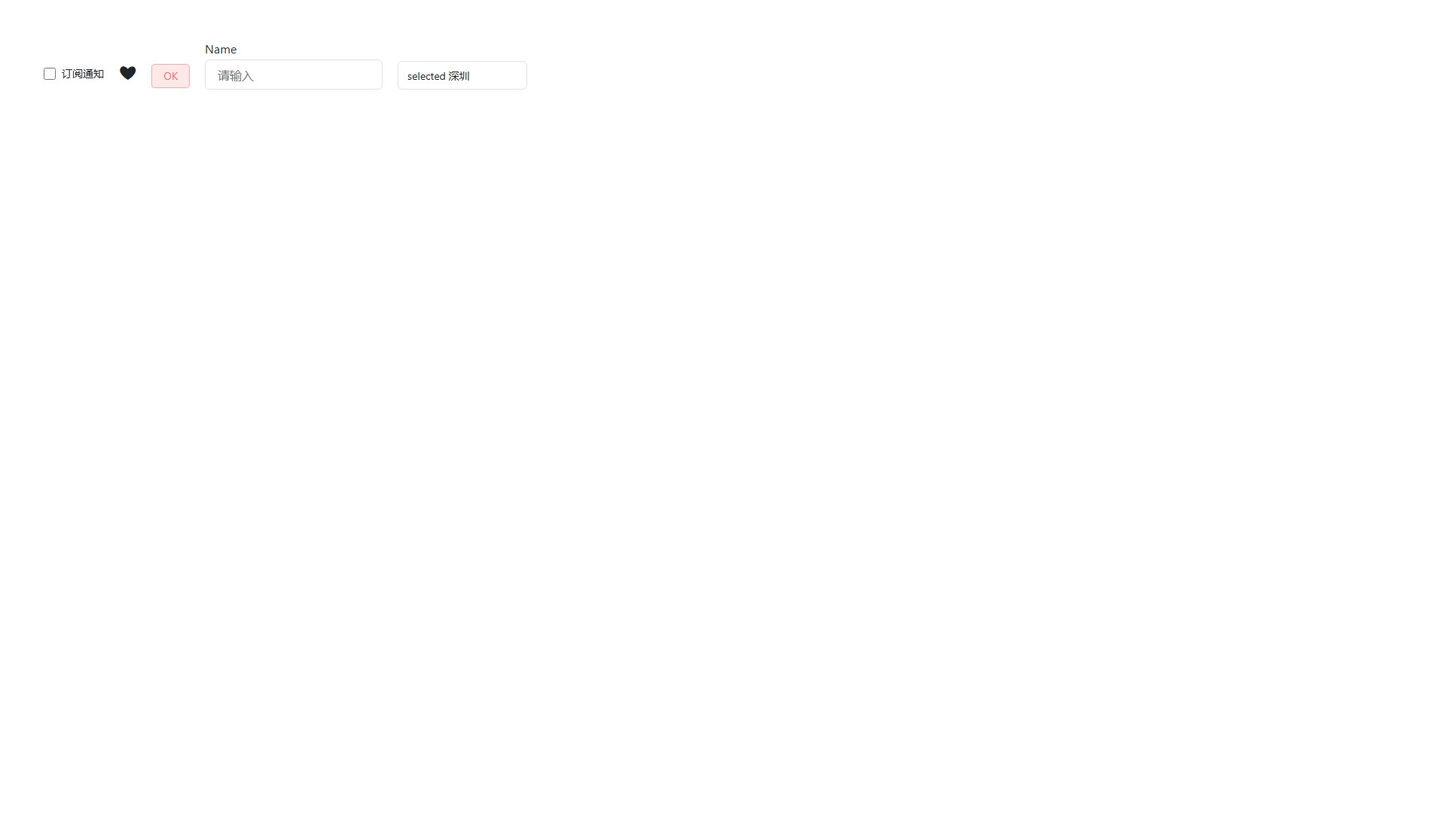button: (152, 64, 190, 88)
checkbox: (44, 67, 56, 79)
icon: (62, 66, 104, 81), (119, 63, 137, 81)
input: (205, 59, 383, 90)
radio: (44, 66, 104, 81)
select: (398, 61, 527, 90)
